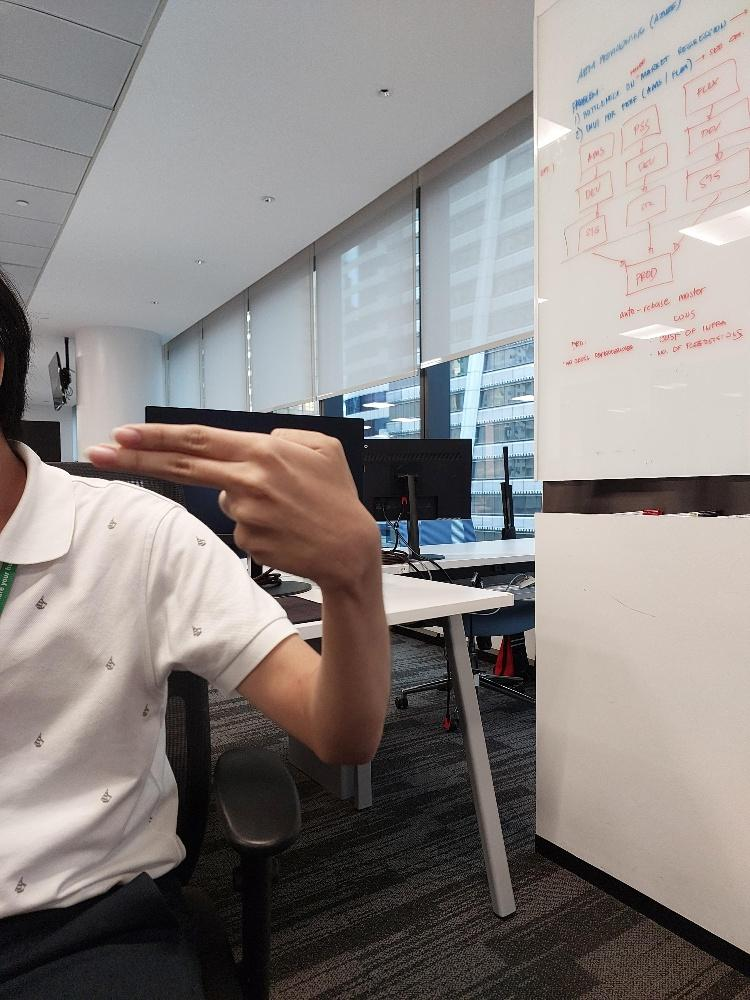h: (84, 416, 381, 581)
